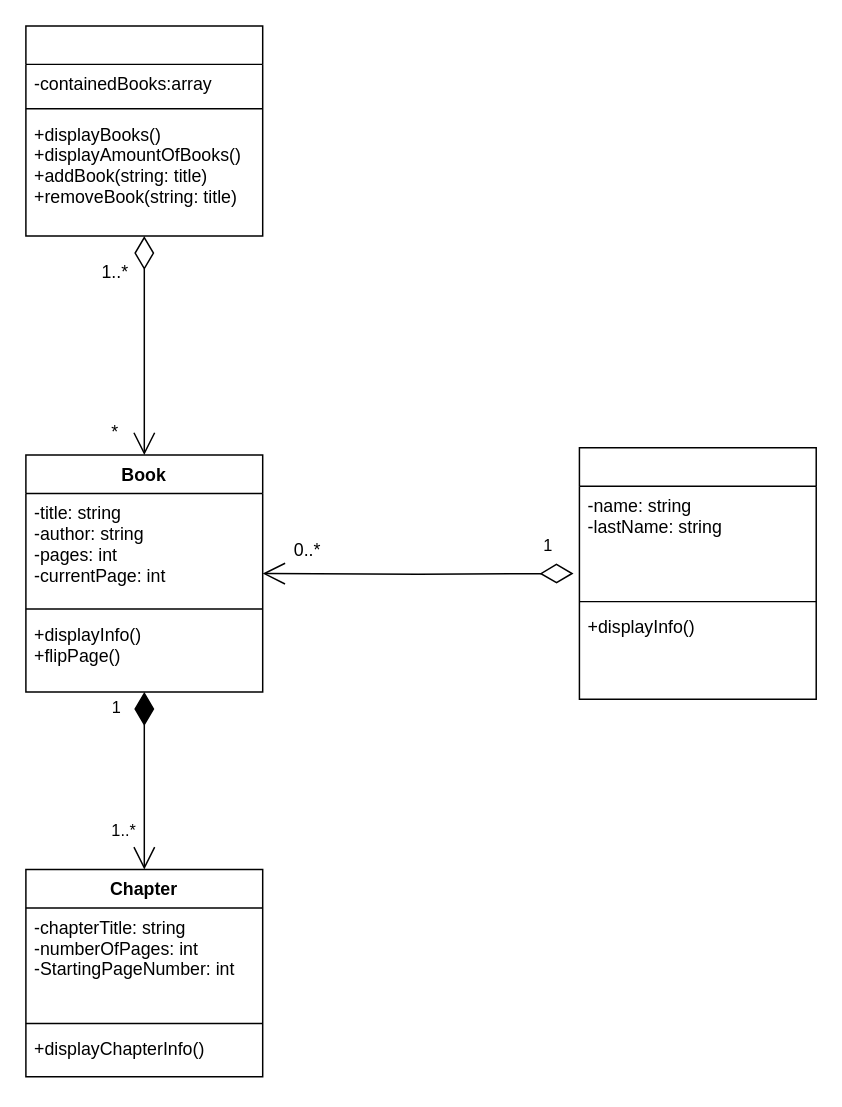
The diagram is 842 pixels wide and 1107 high, and some of its shapes have lost their labels. The shapes that lost their labels are listed below. From the top down, each one's box as (x1, y1, x2, y2) in pixels, then its label:
(24, 24, 263, 236): Bookcase
(578, 446, 816, 699): Writer
